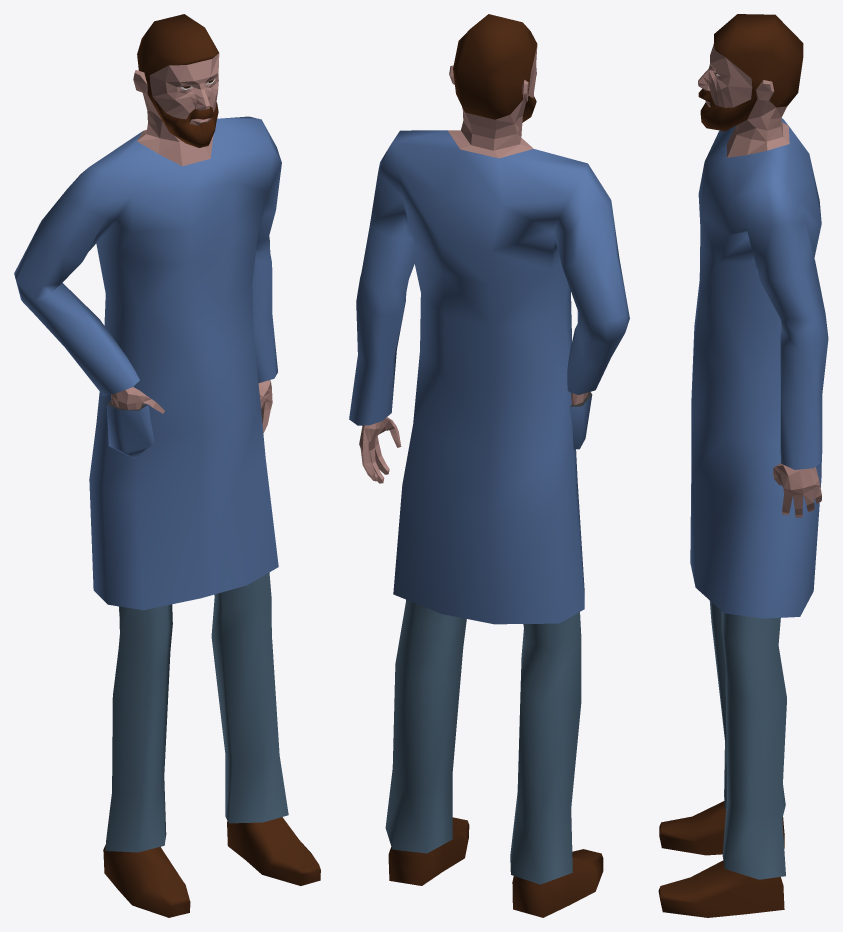
File: technician.dae
3 renders of one model, left to right at view 1: azimuth 30°, elevation 25°; view 2: azimuth 150°, elevation 25°; view 3: azimuth 270°, elevation 25°, orthographic. The views are drawn at different scales.
Visible parts, largest first — view 1: A7_01_698_0_Pts_Material__1__Surf, polymsh_detached3_AUTO_XSIPOLYCLS_material24_Shape_Coord_Mat, polymsh_detached2_AUTO_XSIPOLYCLS_material25_Shape_Coord_Mat, polymsh_XSIPOLYCLS_material26_Shape_Coord_Material__5__Surf; view 2: A7_01_698_0_Pts_Material__1__Surf, polymsh_detached3_AUTO_XSIPOLYCLS_material24_Shape_Coord_Mat, polymsh_detached2_AUTO_XSIPOLYCLS_material25_Shape_Coord_Mat, polymsh_XSIPOLYCLS_material26_Shape_Coord_Material__5__Surf; view 3: A7_01_698_0_Pts_Material__1__Surf, polymsh_detached3_AUTO_XSIPOLYCLS_material24_Shape_Coord_Mat, polymsh_detached2_AUTO_XSIPOLYCLS_material25_Shape_Coord_Mat, polymsh_XSIPOLYCLS_material26_Shape_Coord_Material__5__Surf.
Boxes of the visible parts, box(x1,y1,x2,y2) form: A7_01_698_0_Pts_Material__1__Surf: box(14, 116, 281, 610); polymsh_detached3_AUTO_XSIPOLYCLS_material24_Shape_Coord_Mat: box(105, 572, 288, 852); polymsh_detached2_AUTO_XSIPOLYCLS_material25_Shape_Coord_Mat: box(103, 14, 320, 917); polymsh_XSIPOLYCLS_material26_Shape_Coord_Material__5__Surf: box(111, 53, 272, 433); A7_01_698_0_Pts_Material__1__Surf: box(349, 130, 629, 624); polymsh_detached3_AUTO_XSIPOLYCLS_material24_Shape_Coord_Mat: box(385, 599, 581, 884); polymsh_detached2_AUTO_XSIPOLYCLS_material25_Shape_Coord_Mat: box(388, 14, 603, 917); polymsh_XSIPOLYCLS_material26_Shape_Coord_Material__5__Surf: box(359, 45, 588, 483); A7_01_698_0_Pts_Material__1__Surf: box(690, 118, 828, 618); polymsh_detached3_AUTO_XSIPOLYCLS_material24_Shape_Coord_Mat: box(709, 600, 786, 879); polymsh_detached2_AUTO_XSIPOLYCLS_material25_Shape_Coord_Mat: box(658, 14, 803, 917); polymsh_XSIPOLYCLS_material26_Shape_Coord_Material__5__Surf: box(698, 44, 821, 517).
Bounding box in the file's own units: 6.6 × 20.25 × 3.7.
